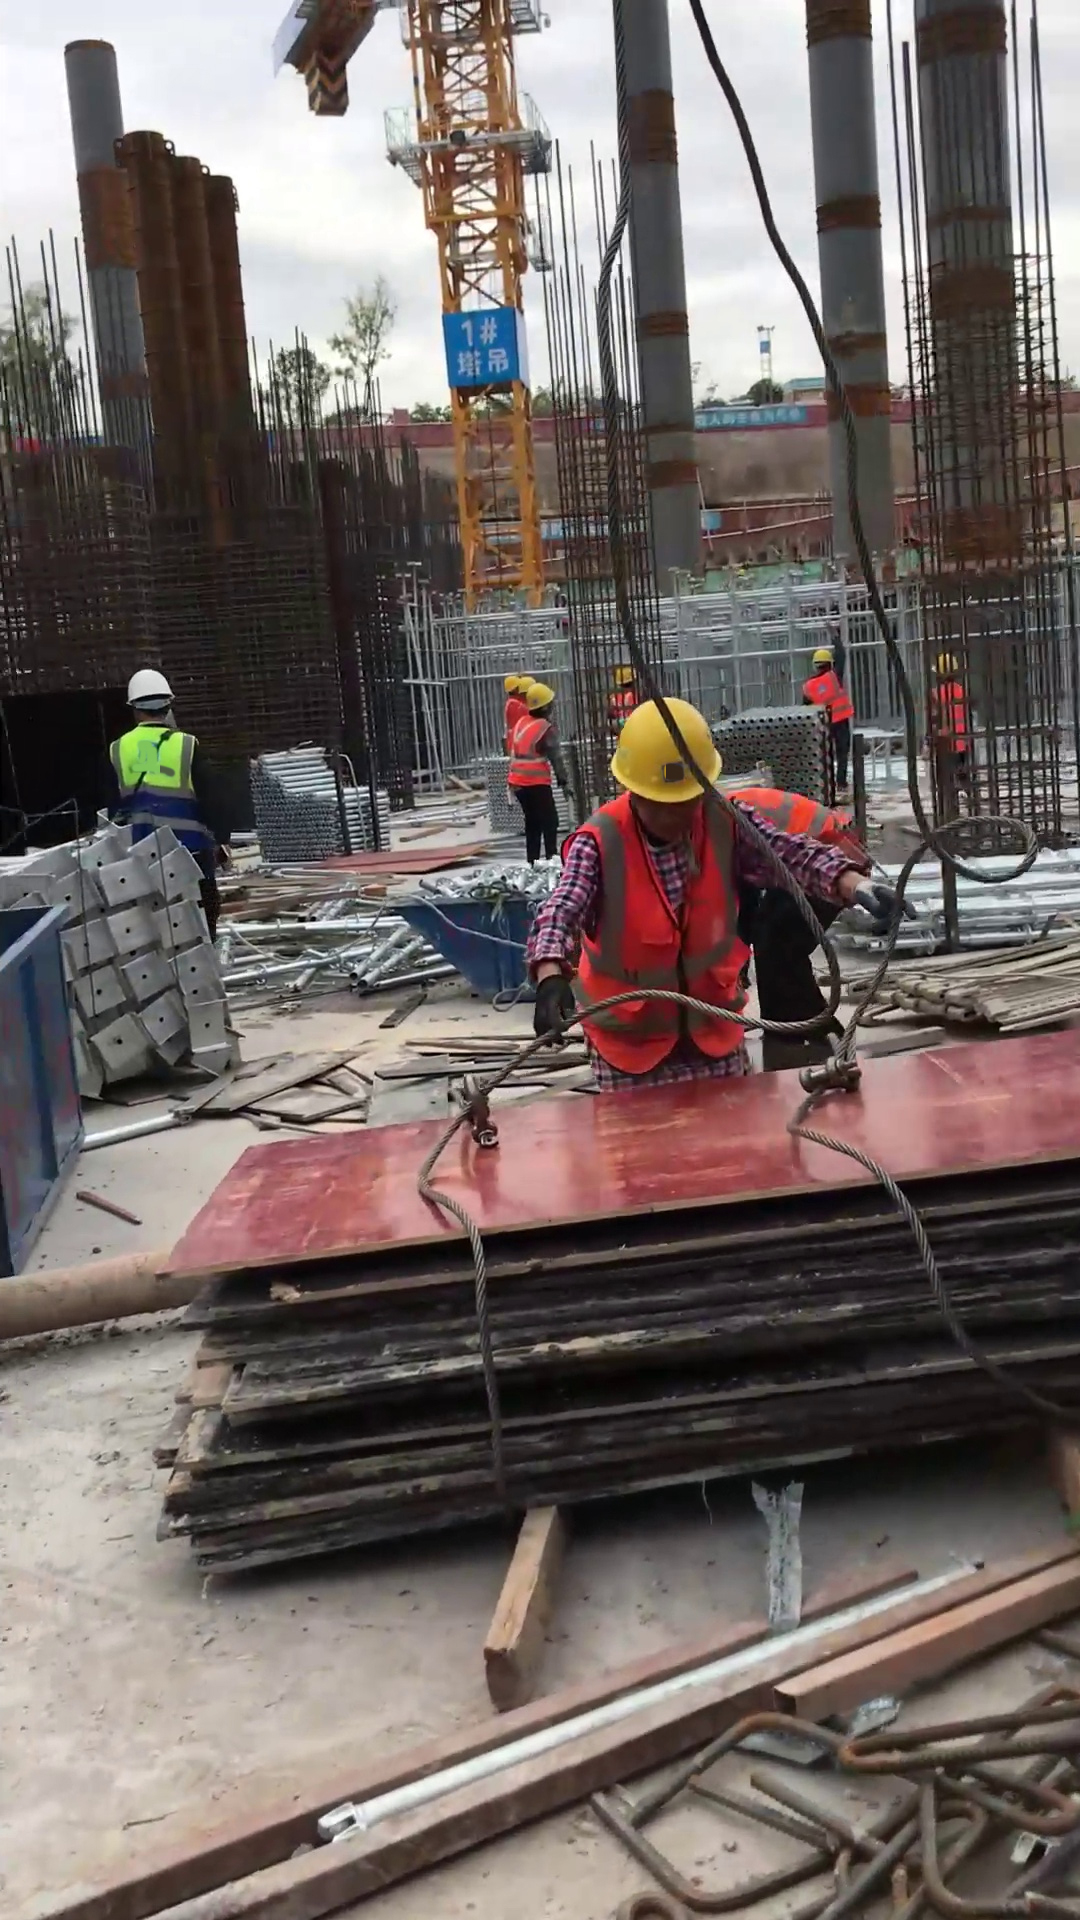board: (133, 1013, 1080, 1596)
helmet: (604, 694, 729, 812), (116, 666, 178, 714), (800, 640, 844, 679), (520, 684, 557, 719), (504, 675, 527, 699)
hopper: (1, 903, 104, 1279), (392, 882, 549, 1008)
person: (522, 694, 924, 1106), (721, 785, 875, 1079), (92, 661, 228, 932), (501, 682, 572, 882), (800, 617, 865, 804), (494, 670, 531, 760)
scaffold: (245, 740, 400, 873), (713, 705, 837, 800)
slogan: (694, 401, 812, 432)
vest: (557, 791, 752, 1069), (106, 723, 208, 862), (723, 790, 872, 858), (503, 714, 562, 797), (799, 672, 856, 729), (499, 698, 521, 749)
